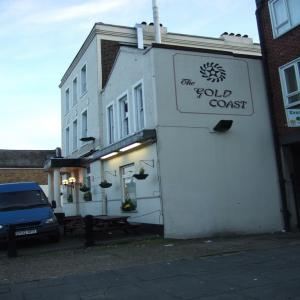Vehicle-registration-plate: (15, 231, 38, 237)
